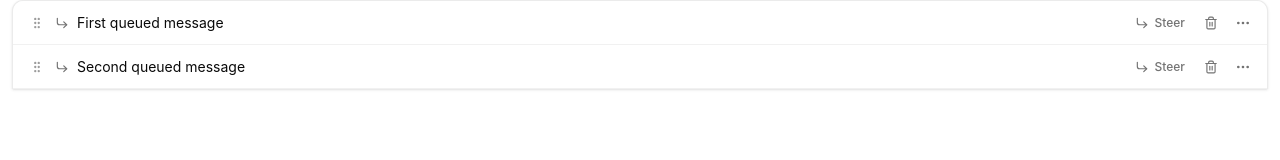
TaskChatQueuedMessages › keeps a row queued when steering fails and announces the retryable state
Click the button with test id "task-chat-queued-steer-comment-1" at [1160, 22], box x1=1126 y1=8 x2=1193 y2=36
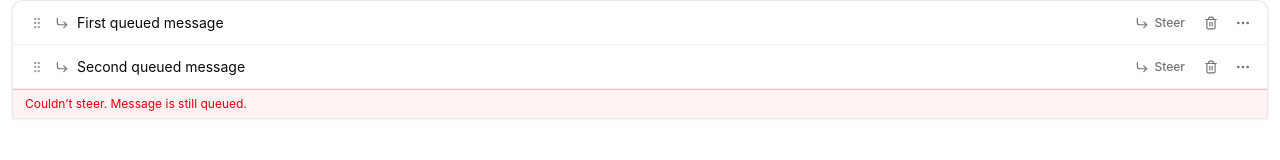
Expected: the element with test id "task-chat-queued-message-comment-1" is shown, x1=13 y1=1 x2=1267 y2=45
Now the text "Couldn’t steer. Message is still queued." is shown, box x1=13 y1=89 x2=1267 y2=118
